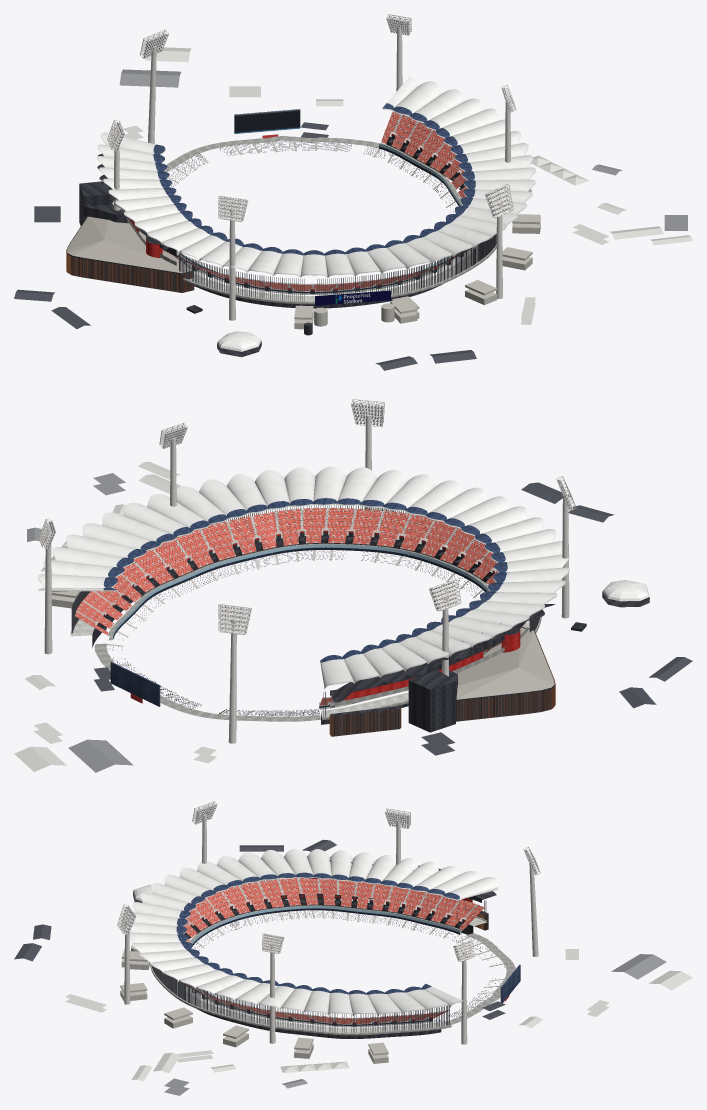
The model's file is people_first_part2.glb.
3 renders of one model, top to bottom at view 1: azimuth 30°, elevation 25°; view 2: azimuth 150°, elevation 25°; view 3: azimuth 270°, elevation 25°, orthographic. The views are drawn at different scales.
Parts seen in each view (by area): view 1: PeopleFirstStadium; view 2: PeopleFirstStadium; view 3: PeopleFirstStadium.
Part boxes in pixels (x1=…): PeopleFirstStadium: x1=14, y1=14, x2=692, y2=370; PeopleFirstStadium: x1=14, y1=399, x2=692, y2=772; PeopleFirstStadium: x1=14, y1=801, x2=692, y2=1095.
Bounding box in the file's own units: 344 × 68.89 × 395.
Materials: 23 (15 with a texture image).
